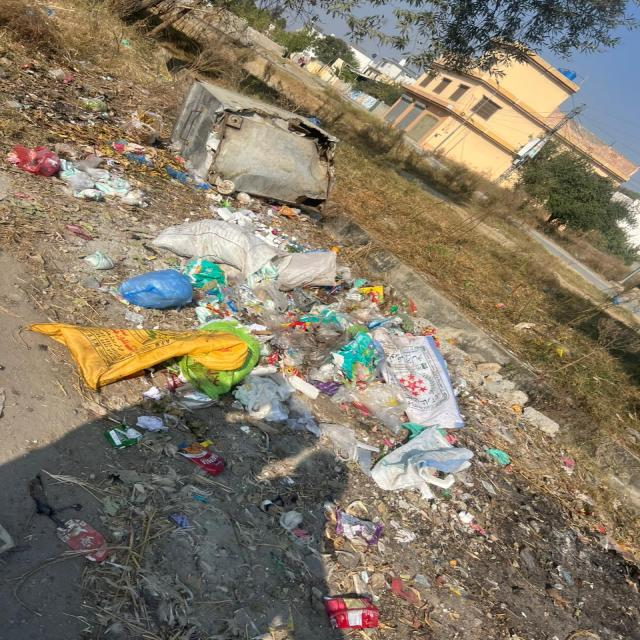garbage: (78, 217, 468, 506), (32, 116, 333, 217)
